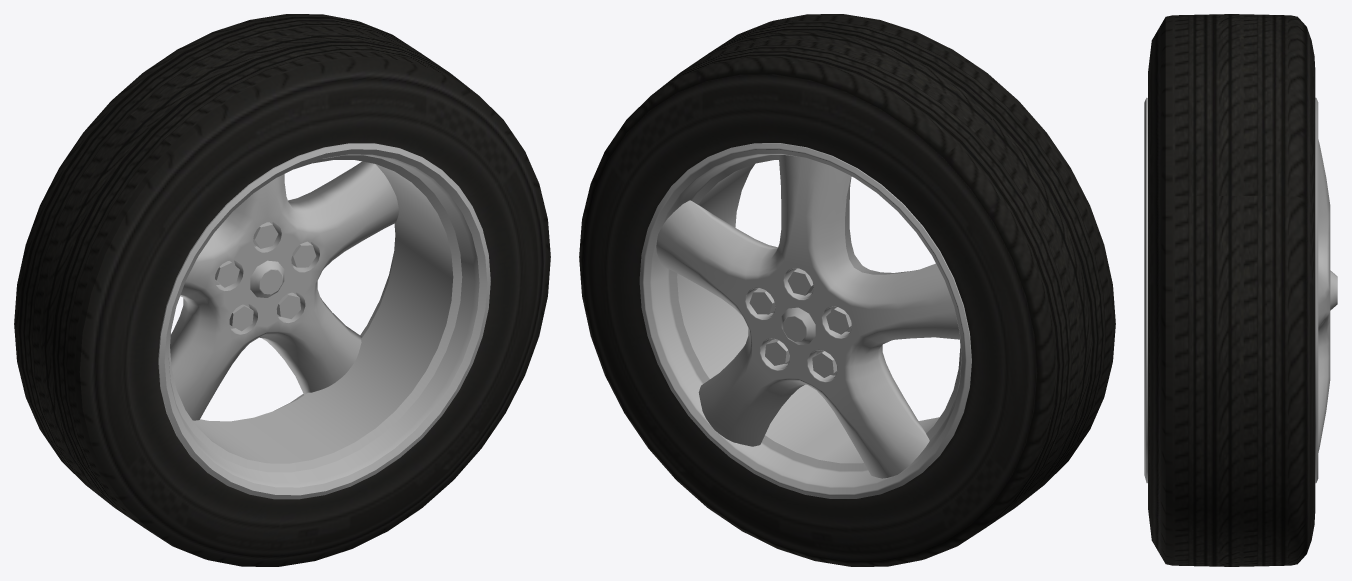
3 renders of one model, left to right at view 1: azimuth 30°, elevation 25°; view 2: azimuth 150°, elevation 25°; view 3: azimuth 270°, elevation 25°, orthographic.
Visible parts, largest first — view 1: P353_20_901B_L_1_DM_P353_20_901B_L, P353_20_901B_L_P353_20_901B_L_2_DaS; view 2: P353_20_901B_L_1_DM_P353_20_901B_L, P353_20_901B_L_P353_20_901B_L_2_DaS; view 3: P353_20_901B_L_1_DM_P353_20_901B_L, P353_20_901B_L_P353_20_901B_L_2_DaS.
Part boxes in pixels (bbox=[...]): P353_20_901B_L_1_DM_P353_20_901B_L: bbox=[14, 14, 550, 566]; P353_20_901B_L_P353_20_901B_L_2_DaS: bbox=[158, 143, 490, 499]; P353_20_901B_L_1_DM_P353_20_901B_L: bbox=[579, 14, 1115, 566]; P353_20_901B_L_P353_20_901B_L_2_DaS: bbox=[639, 143, 971, 498]; P353_20_901B_L_1_DM_P353_20_901B_L: bbox=[1148, 14, 1315, 566]; P353_20_901B_L_P353_20_901B_L_2_DaS: bbox=[1144, 97, 1337, 483].
Bounding box in the file's own units: 70.17 × 70.17 × 24.56.
